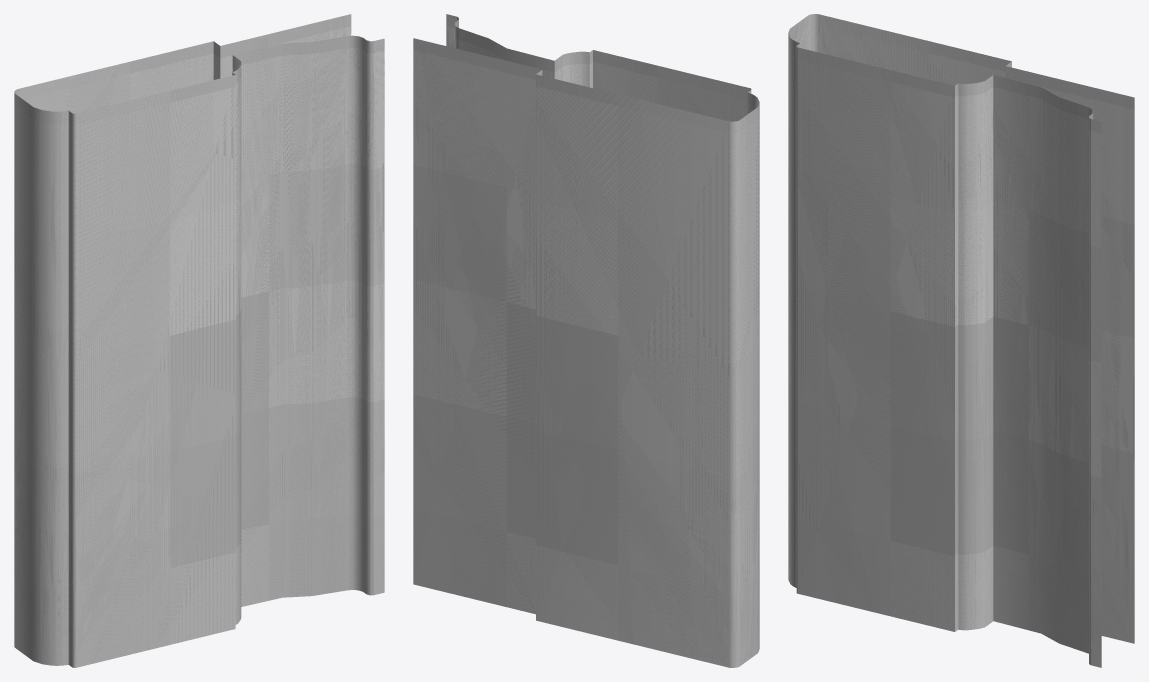
File: original-26.obj
3 renders of one model, left to right at view 1: azimuth 30°, elevation 25°; view 2: azimuth 150°, elevation 25°; view 3: azimuth 330°, elevation 25°, orthographic.
Visible parts, largest first — view 1: LB_11_CL1/LB_11_CL/mesh18/mesh18-geometry#mesh18-geometry; view 2: LB_11_CL1/LB_11_CL/mesh18/mesh18-geometry#mesh18-geometry; view 3: LB_11_CL1/LB_11_CL/mesh18/mesh18-geometry#mesh18-geometry.
Boxes of the visible parts, box(x1,y1,x2,y2) form: LB_11_CL1/LB_11_CL/mesh18/mesh18-geometry#mesh18-geometry: box(14, 14, 384, 667); LB_11_CL1/LB_11_CL/mesh18/mesh18-geometry#mesh18-geometry: box(413, 14, 759, 667); LB_11_CL1/LB_11_CL/mesh18/mesh18-geometry#mesh18-geometry: box(788, 14, 1134, 667).
Size of the model in its own units: 0.1899 by 0.3013 by 0.0393.
